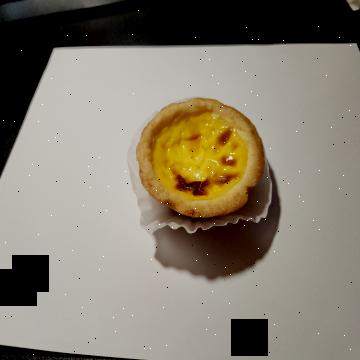EggTart: (136, 96, 263, 220)
